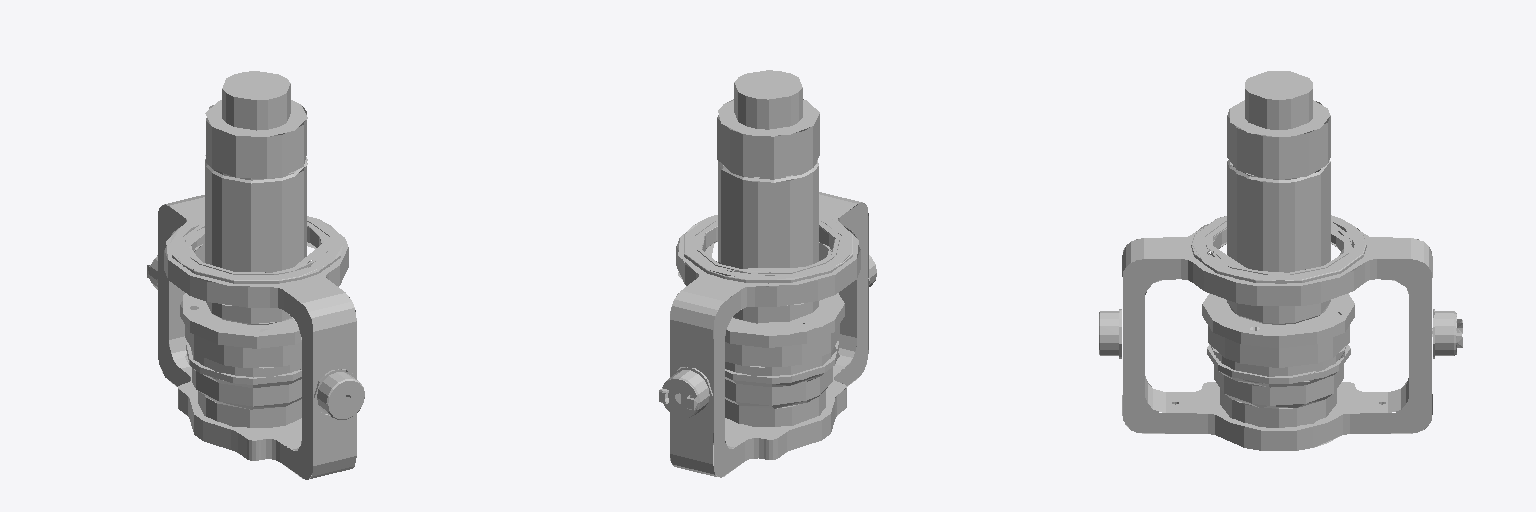
File: neck_1_joint.obj
The picture shows the model from 3 angles: view 1: azimuth 30°, elevation 25°; view 2: azimuth 150°, elevation 25°; view 3: azimuth 270°, elevation 25°; orthographic projection.
Size of the model in its own units: 0.0398 by 0.0838 by 0.0815.